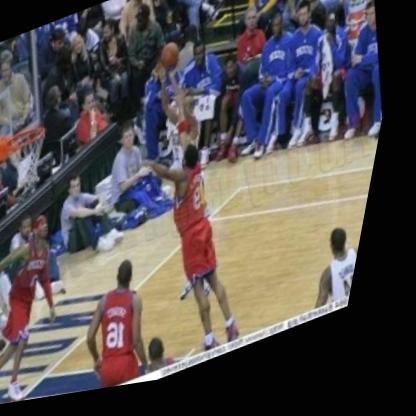basketball: (152, 38, 192, 84)
rim: (0, 117, 67, 196)
